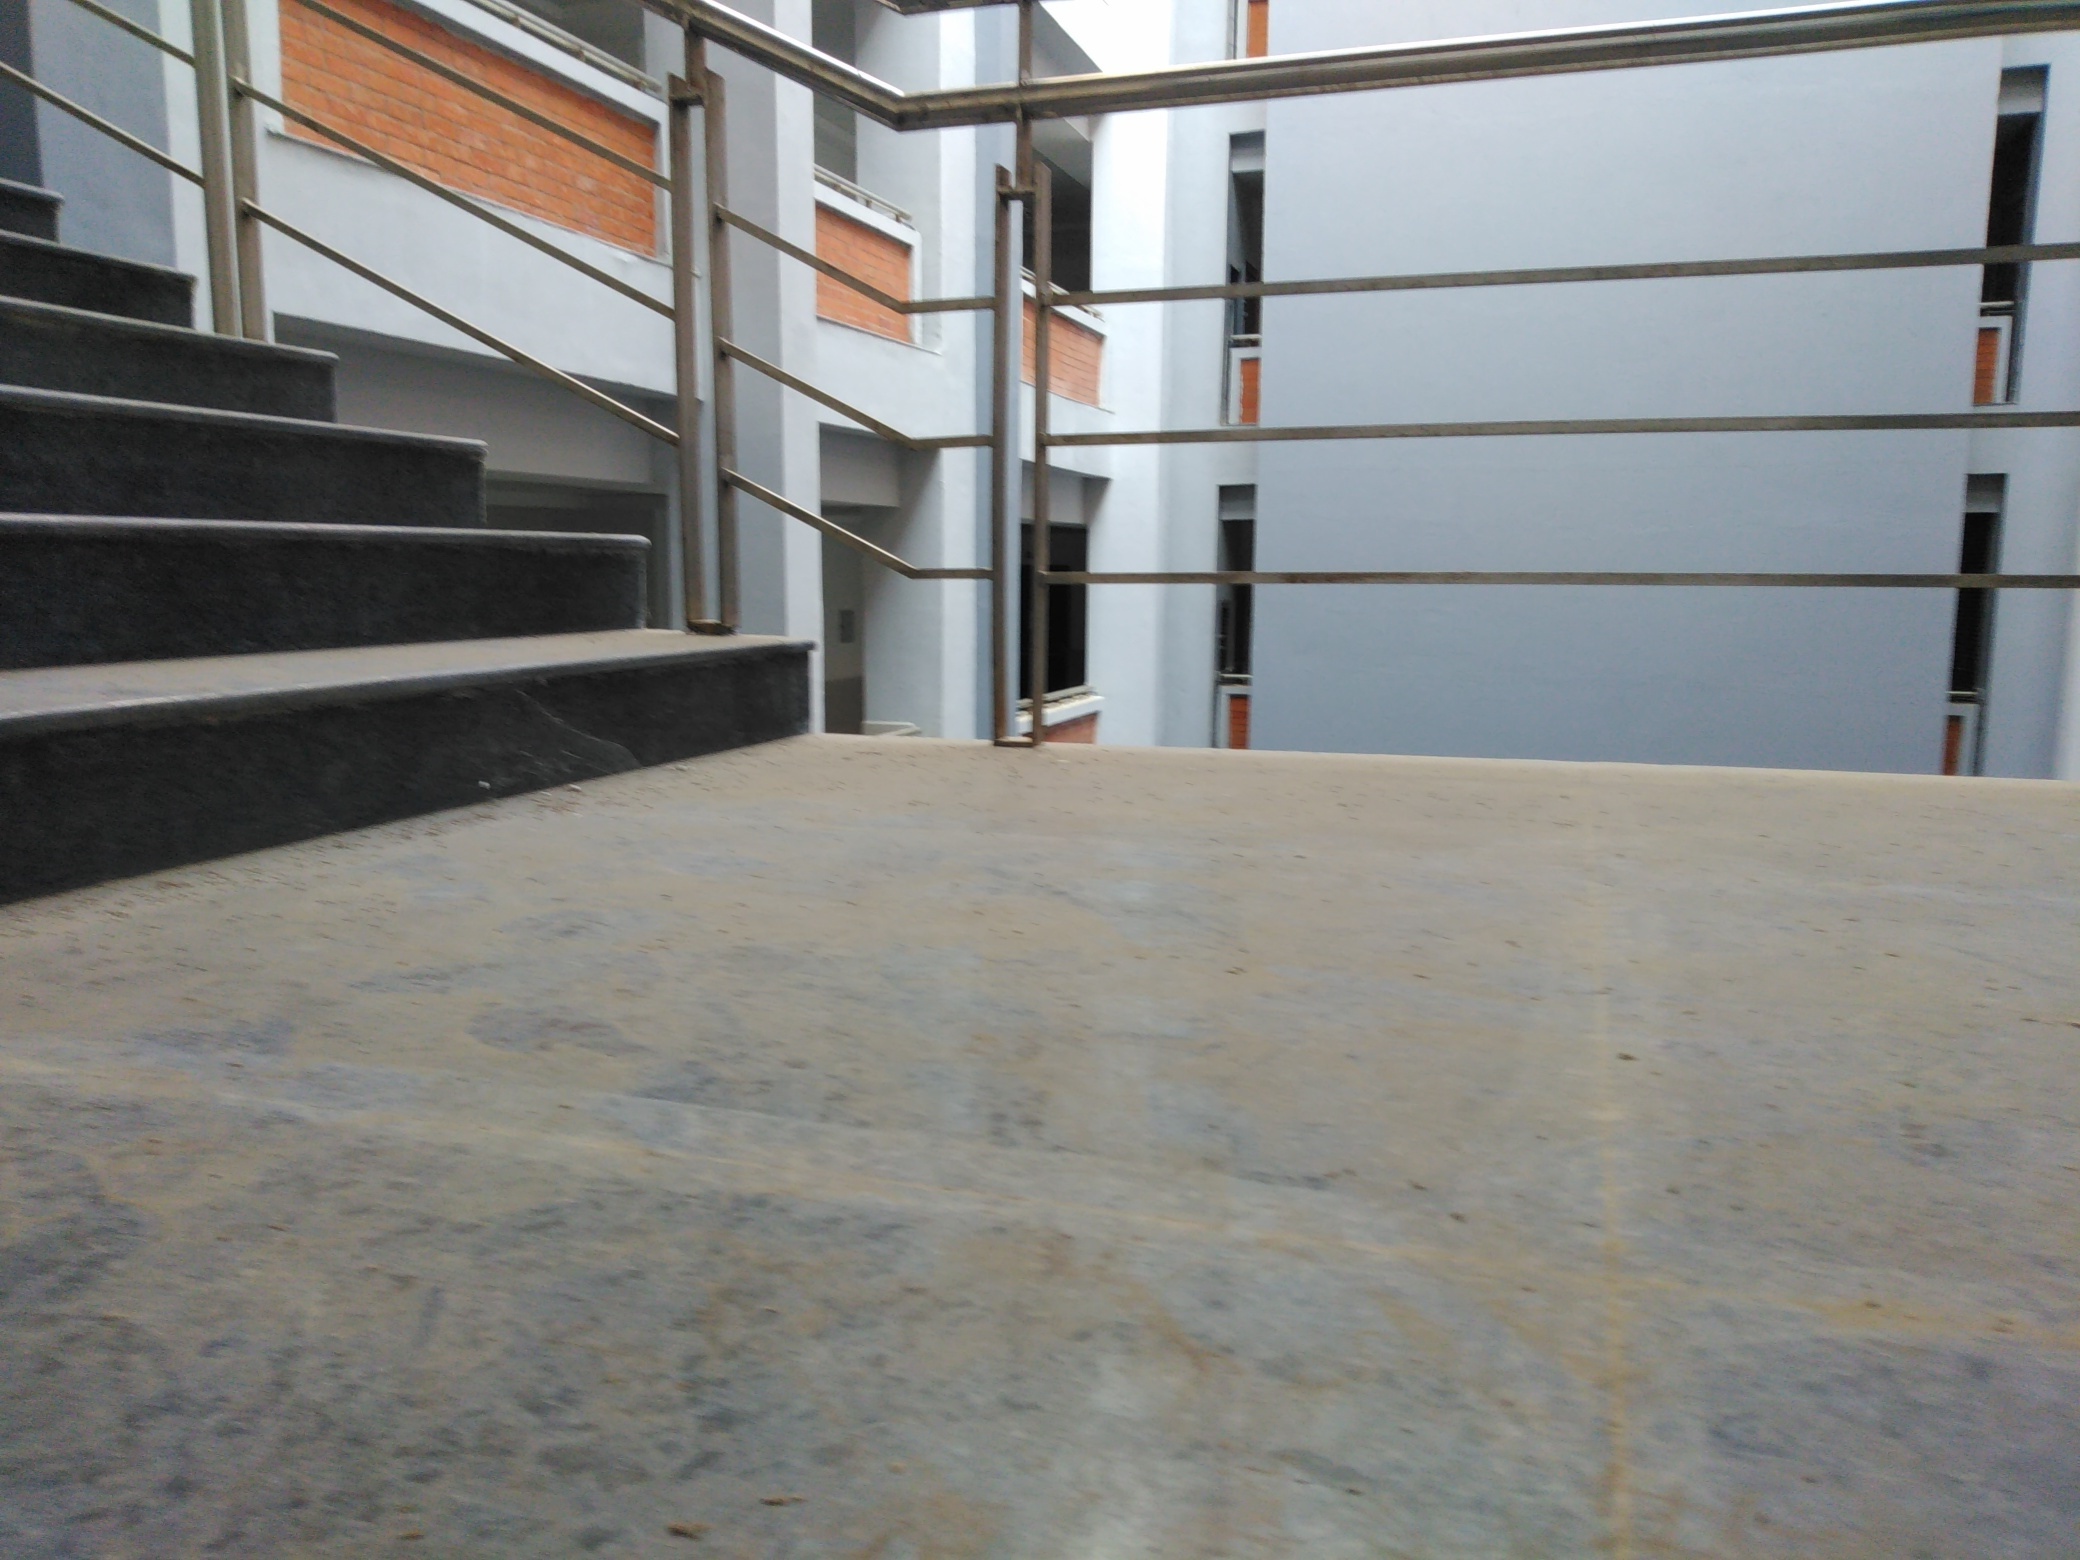stairs_up: (16, 193, 799, 842)
